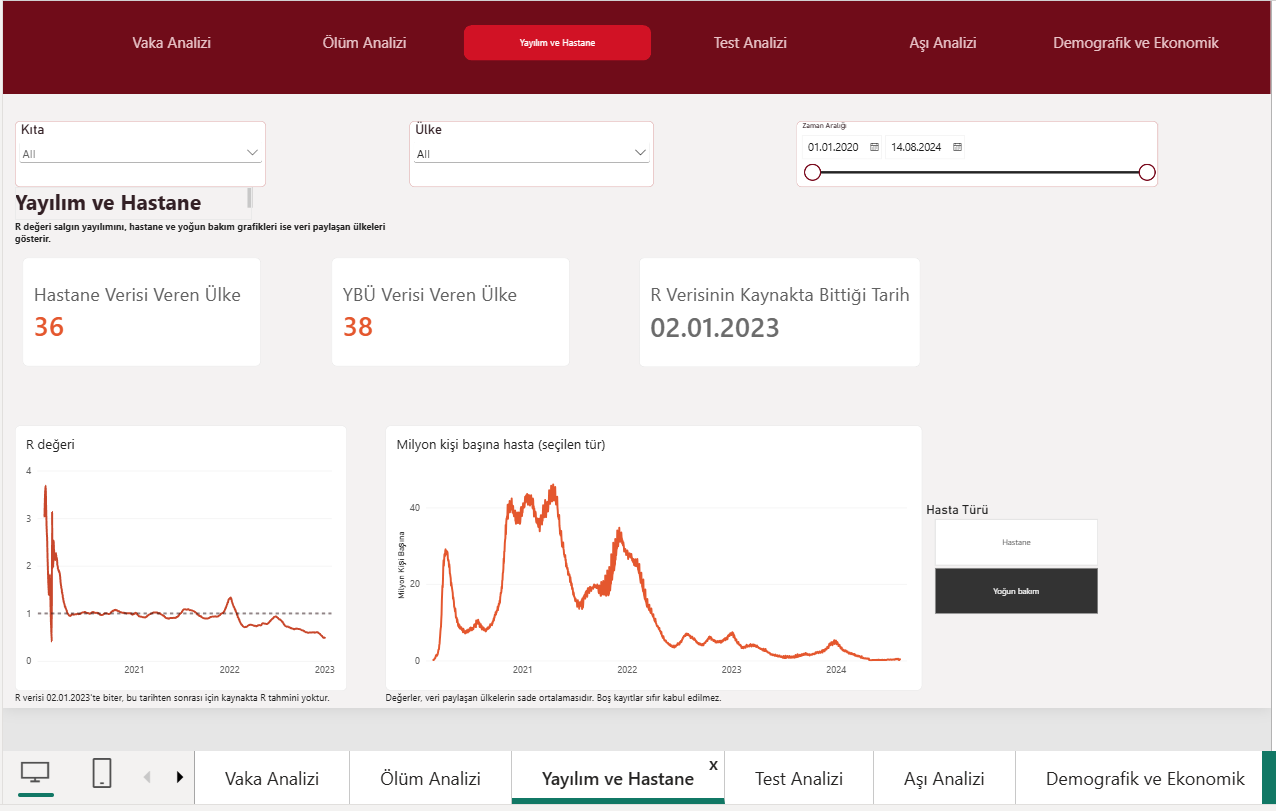

Layout of this report page (visuals, bound fields, positions):
{"tool":"powerbi","page":{"name":"Yayılım ve hastane","canvas":[1920,1080],"ordinal":2},"visuals":[{"type":"shape","box":[0,0,1919.3,149.9],"z":0},{"type":"pageNavigator","box":[113.6,45.4,1744.4,54.5],"z":1000}]}

Visuals, with their boxes on the page's 1920x1080 design canvas (x1, y1, x2, y2). These are canvas units, not pixel positions in the 1276x811 screenshot, which may show the page scaled, cropped or inside an application window:
shape: 0, 0, 1919, 150
pageNavigator: 114, 45, 1858, 100
